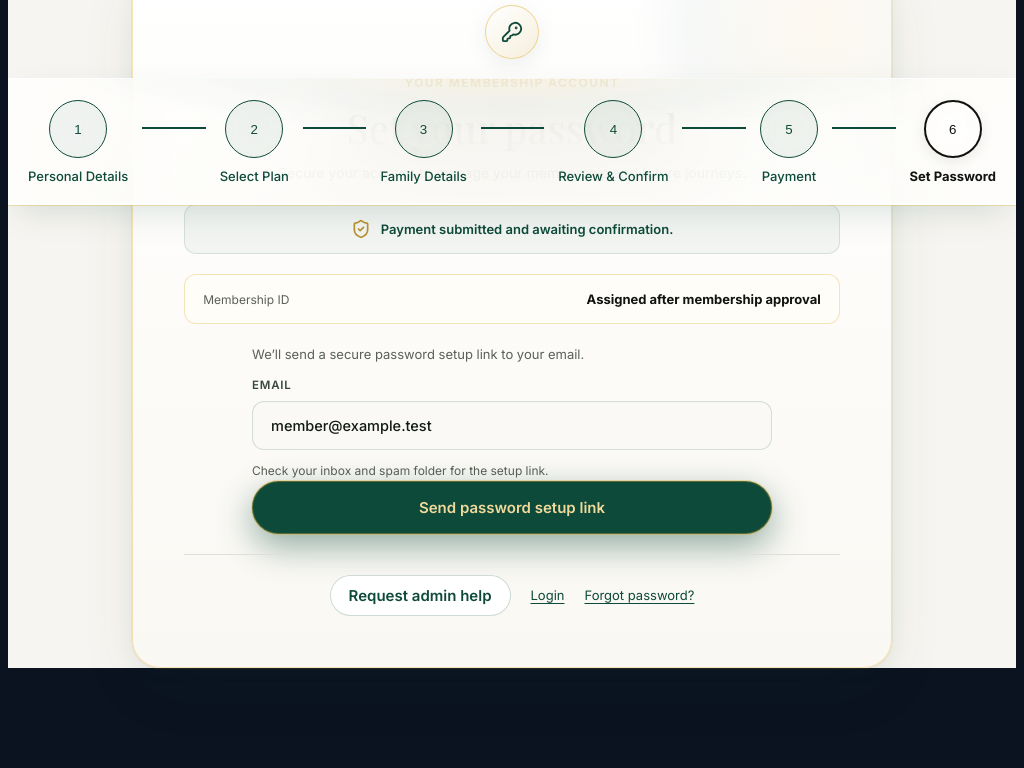
Test: integrated membership application and payment flow › prefills the payment-step email and sends a password link only after submission
(page scrolled)
Check: the field labelled "Email" holds "member@example.test", box [252,401,772,450]
Click the button "Send password setup link" at [512, 507], box [252,481,772,534]
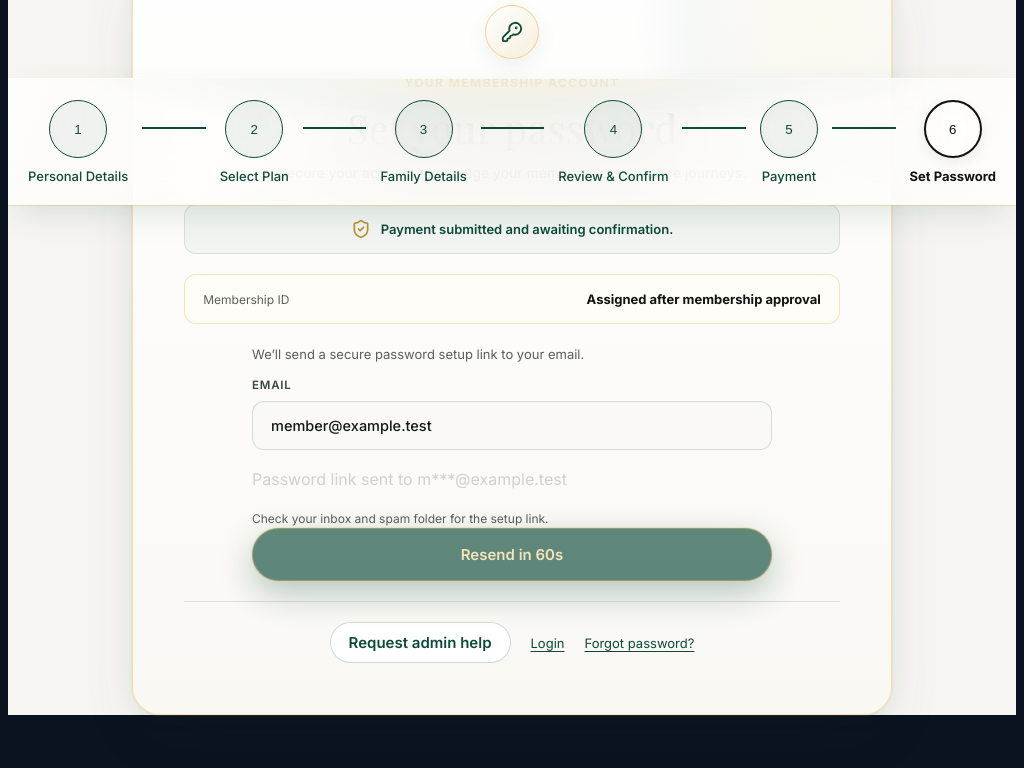
Check: the text "Password link sent to m***@example.test" is shown, box [252,469,567,489]
Check: the button "Resend in 60s" is disabled, box [252,528,772,581]
